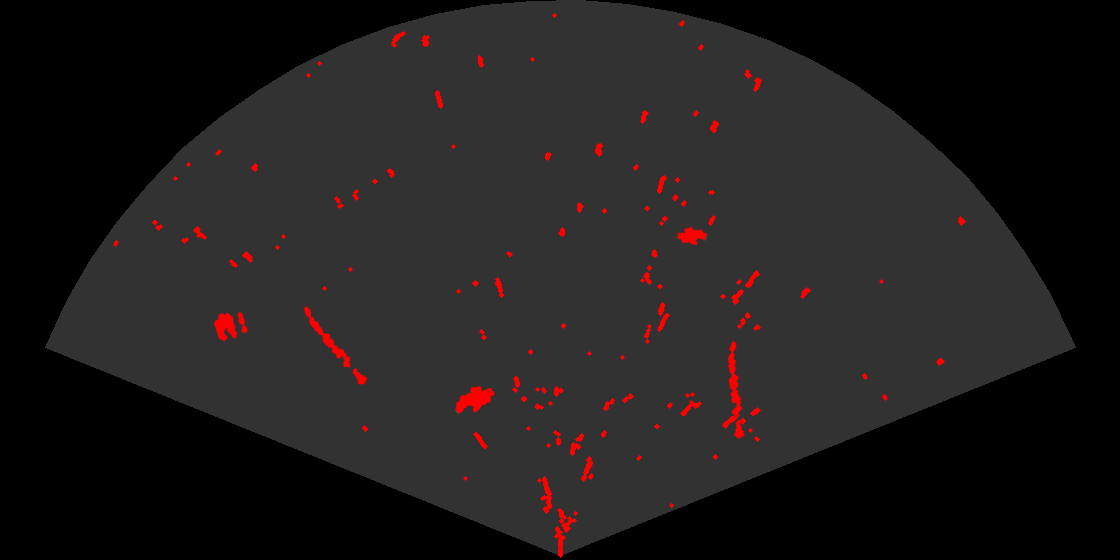AUV: (454, 384, 496, 415), (675, 225, 708, 247)
ball: (212, 310, 249, 343)
chain: (302, 305, 369, 386), (726, 339, 746, 441)
